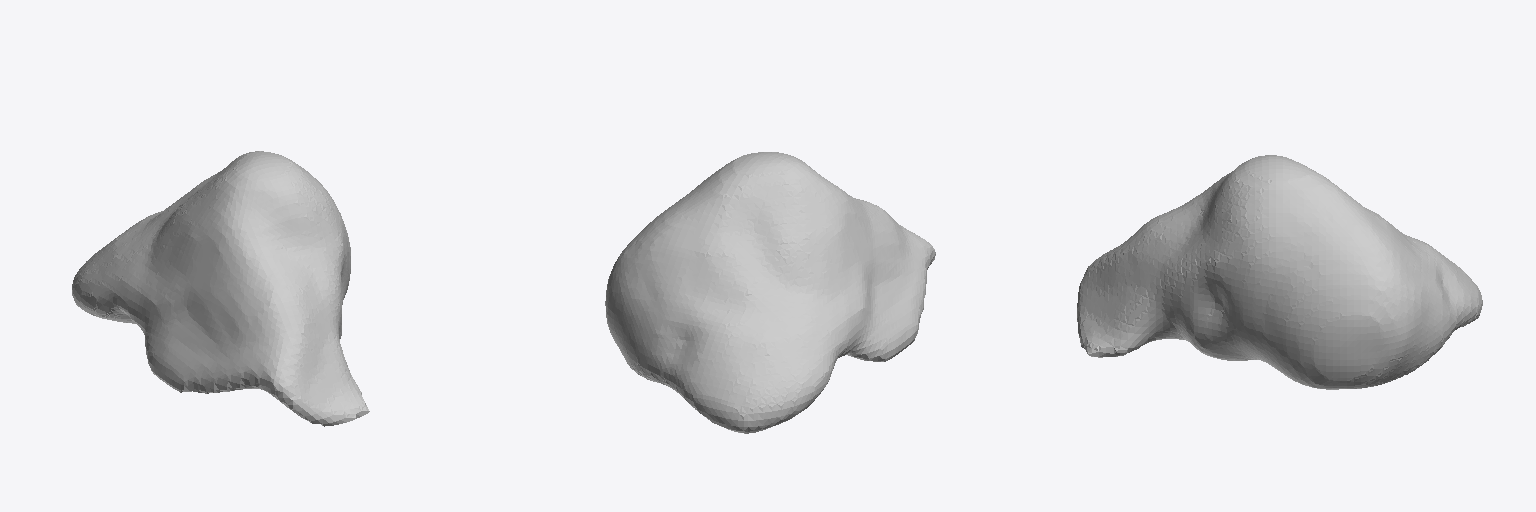
File: out_parenchyma.obj
3 views of the same model, side by side, from view 1: azimuth 30°, elevation 25°; view 2: azimuth 150°, elevation 25°; view 3: azimuth 270°, elevation 25° (orthographic).
Visible parts, largest first — view 1: 2_visualModel; view 2: 2_visualModel; view 3: 2_visualModel.
Part boxes in pixels (x1,y1,x2,y2): 2_visualModel: (72,151,369,426); 2_visualModel: (605,152,935,433); 2_visualModel: (1077,155,1482,389).
Bounding box in the file's own units: 0.1063 × 0.0845 × 0.163.